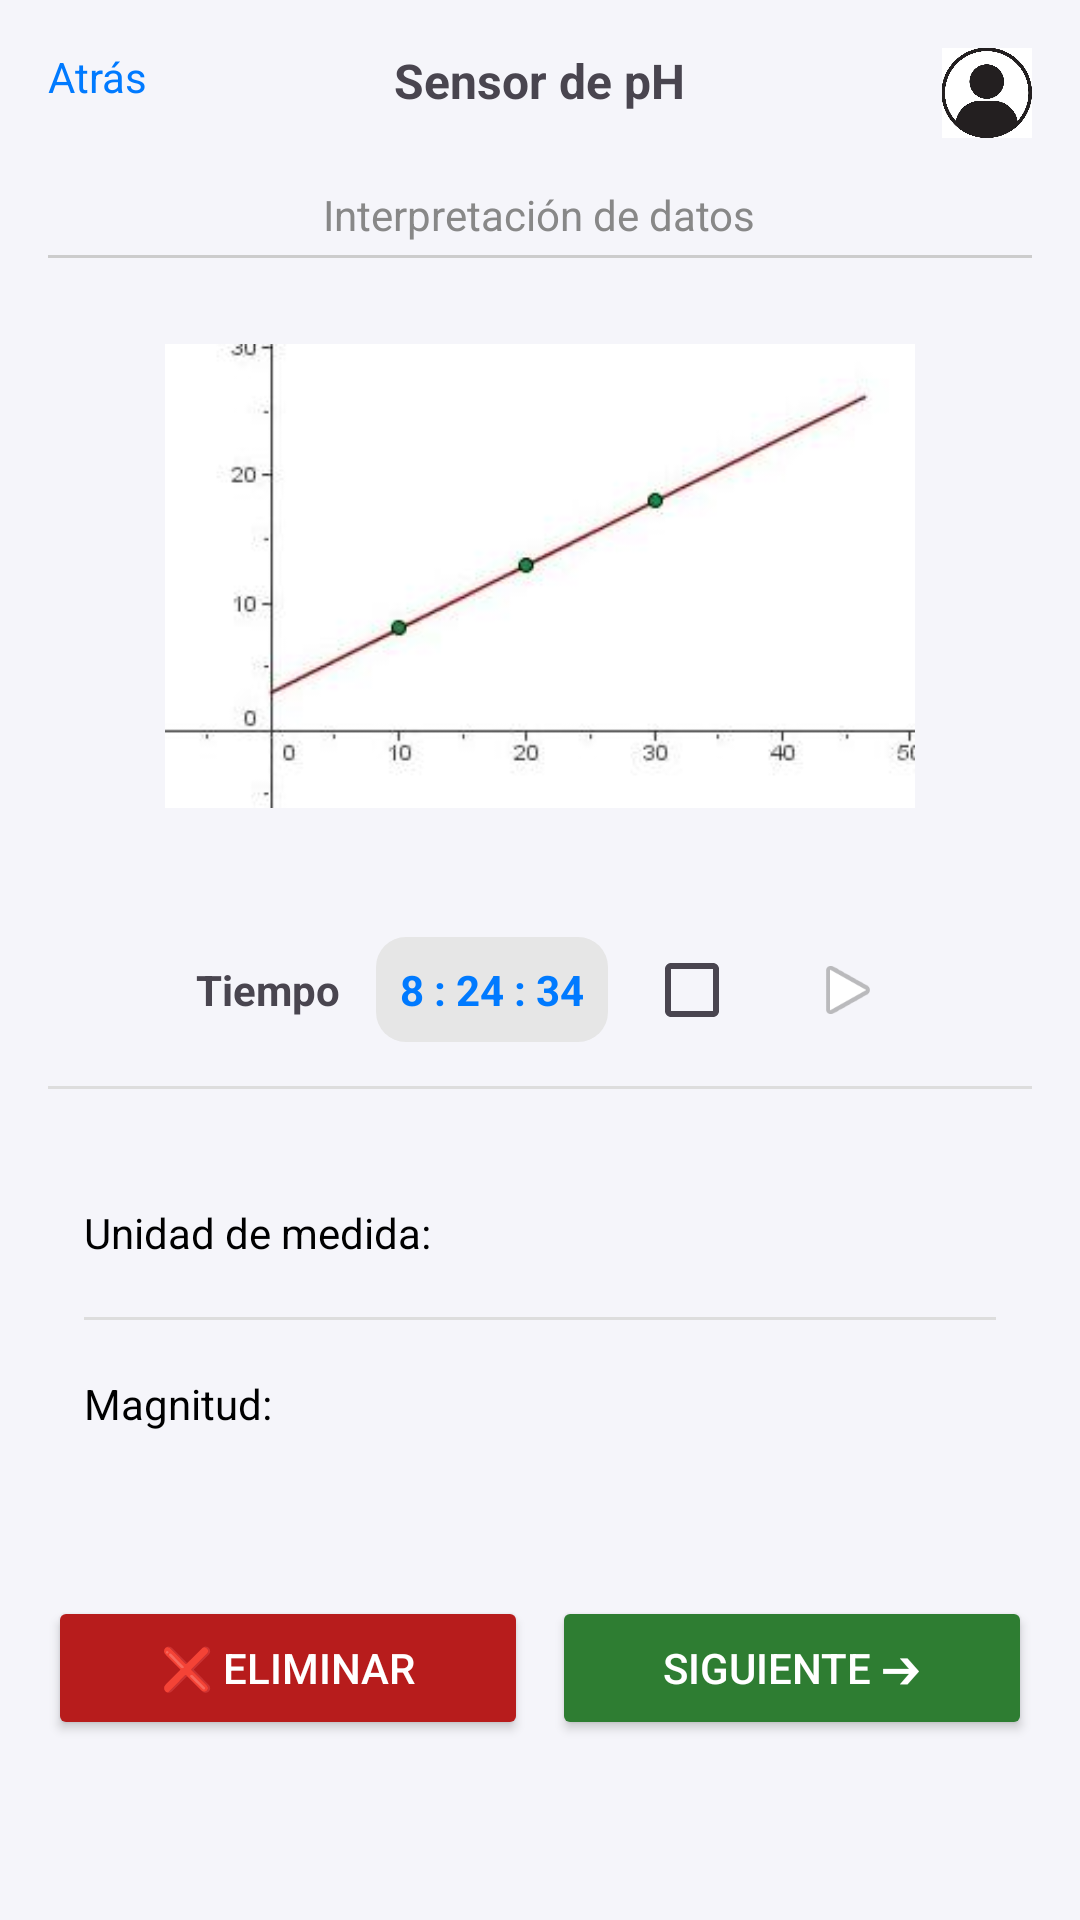

Screen size 1080 × 1920. Icon name, then its box in pixels as (x1, y1, x2, y2):
play: (826, 966, 870, 1014)
usuario: (942, 48, 1032, 138)
